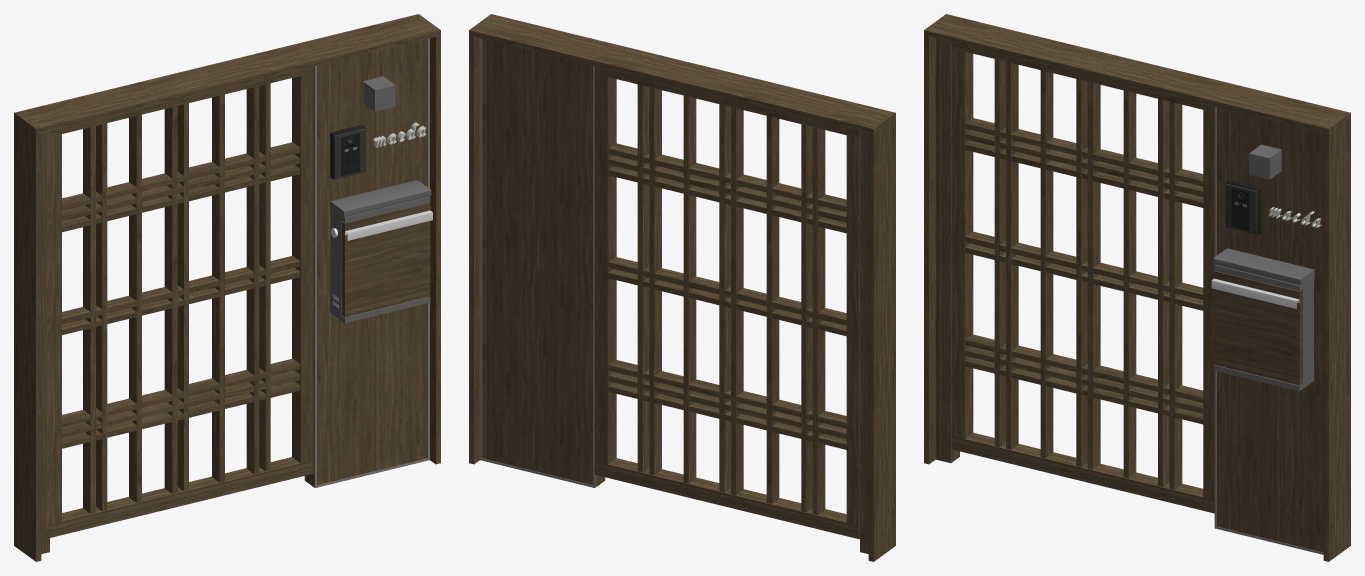
Rendered from eabmonchu-styles7_brownebony.fbx.
3 renders of one model, left to right at view 1: azimuth 30°, elevation 25°; view 2: azimuth 150°, elevation 25°; view 3: azimuth 330°, elevation 25°, orthographic.
Visible parts, largest first — view 1: eabmonchu-styles7_brownebony; view 2: eabmonchu-styles7_brownebony; view 3: eabmonchu-styles7_brownebony.
Boxes of the visible parts, x1,y1,x2,y2 form: eabmonchu-styles7_brownebony: (14,14,440,561); eabmonchu-styles7_brownebony: (469,14,895,561); eabmonchu-styles7_brownebony: (924,14,1350,561).
Size of the model in its own units: 158 by 162 by 23.11.
16 materials, 6 textured.
